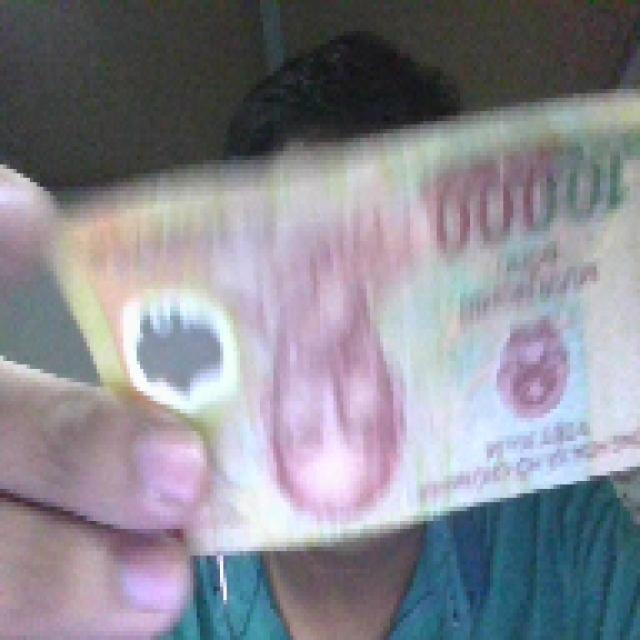10 000 VND: (43, 76, 637, 556)
